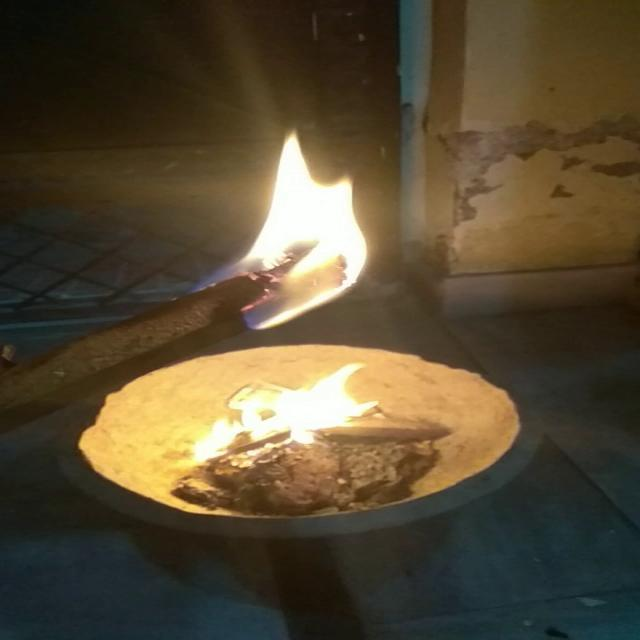Fire: (226, 132, 378, 320), (208, 365, 382, 462)
